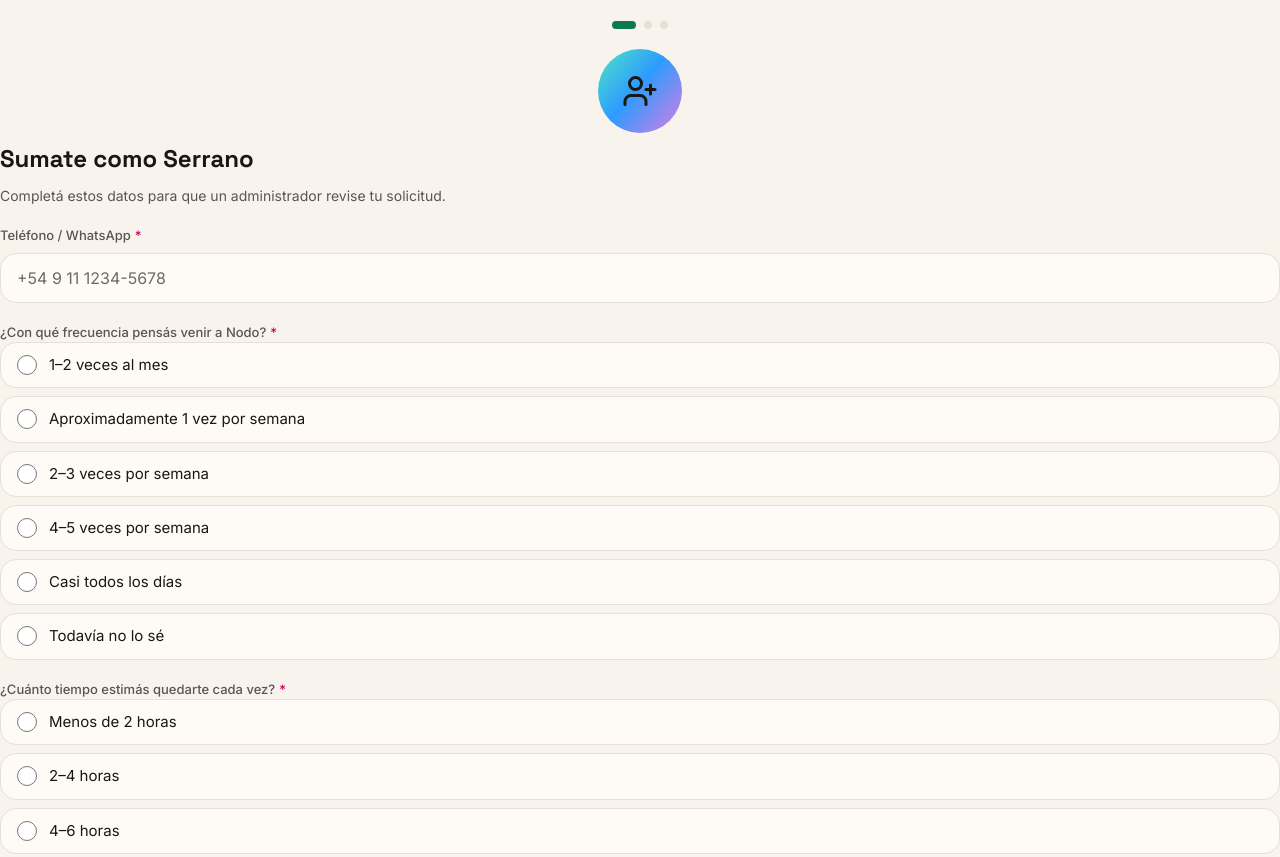
Test: SolicitarForm — multi-step (ZER-109) › uses exclusive radio choices instead of select elements
The width and height of the screenshot is (1280, 857).
Expected: the radio button labelled "1–2 veces al mes" is shown, x1=17 y1=355 x2=37 y2=375
Type "1122334455" into the field labelled "Teléfono / WhatsApp" at x=640, y=278, box x1=0 y1=252 x2=1279 y2=302
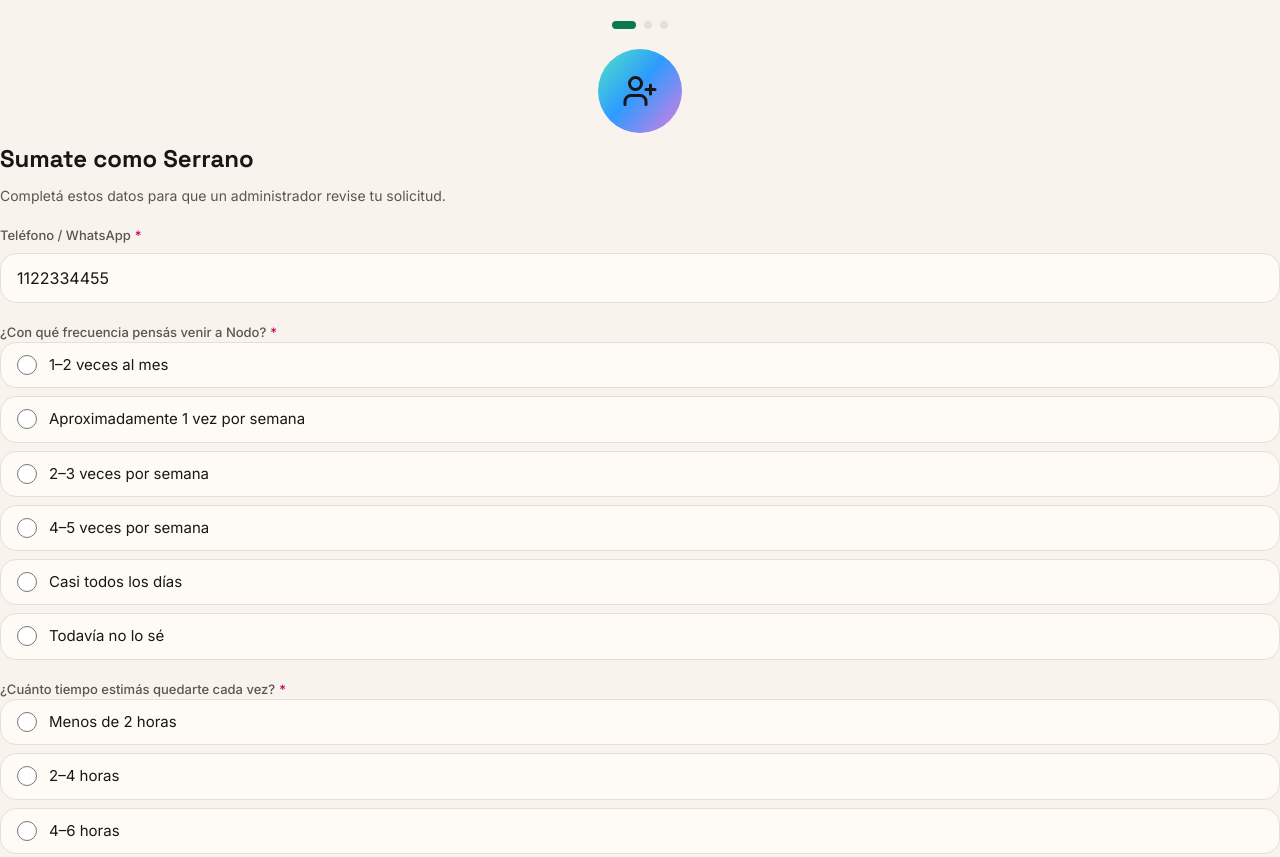
Click the radio button labelled "Aproximadamente 1 vez por semana" at x=27, y=419, box x1=17 y1=409 x2=37 y2=429
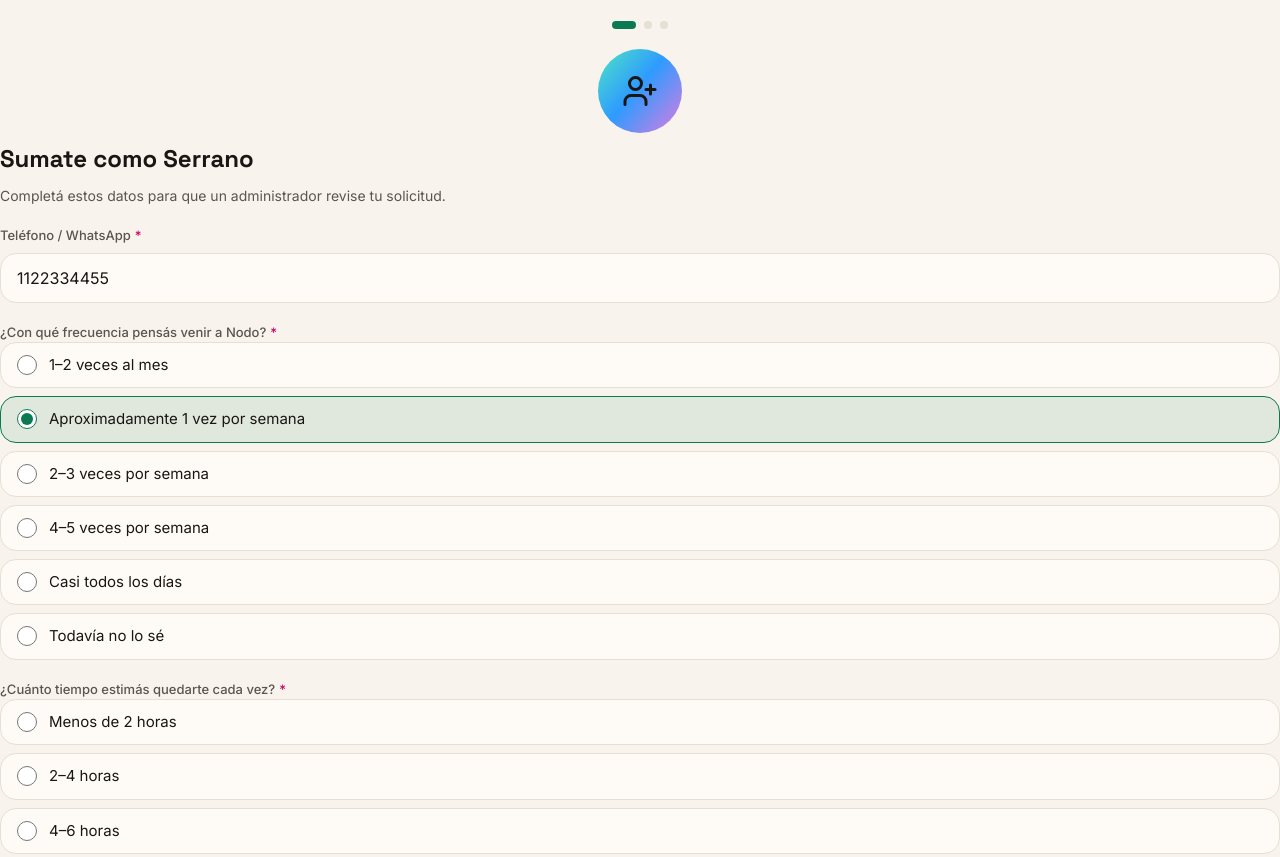
Click the radio button labelled "2–4 horas" at x=27, y=776, box x1=17 y1=766 x2=37 y2=786
(page scrolled)
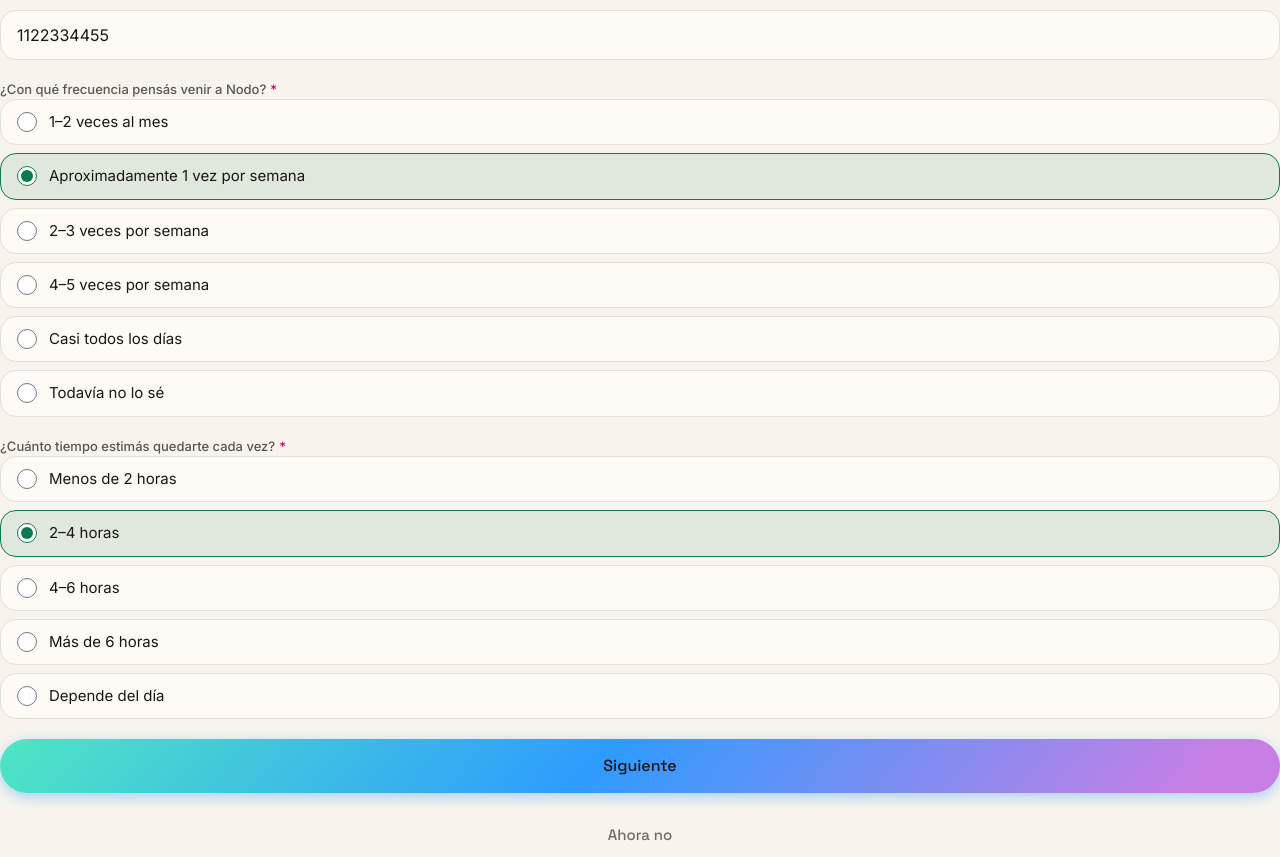
Click the button "Siguiente" at x=640, y=766, box x1=0 y1=739 x2=1279 y2=793
(page scrolled)
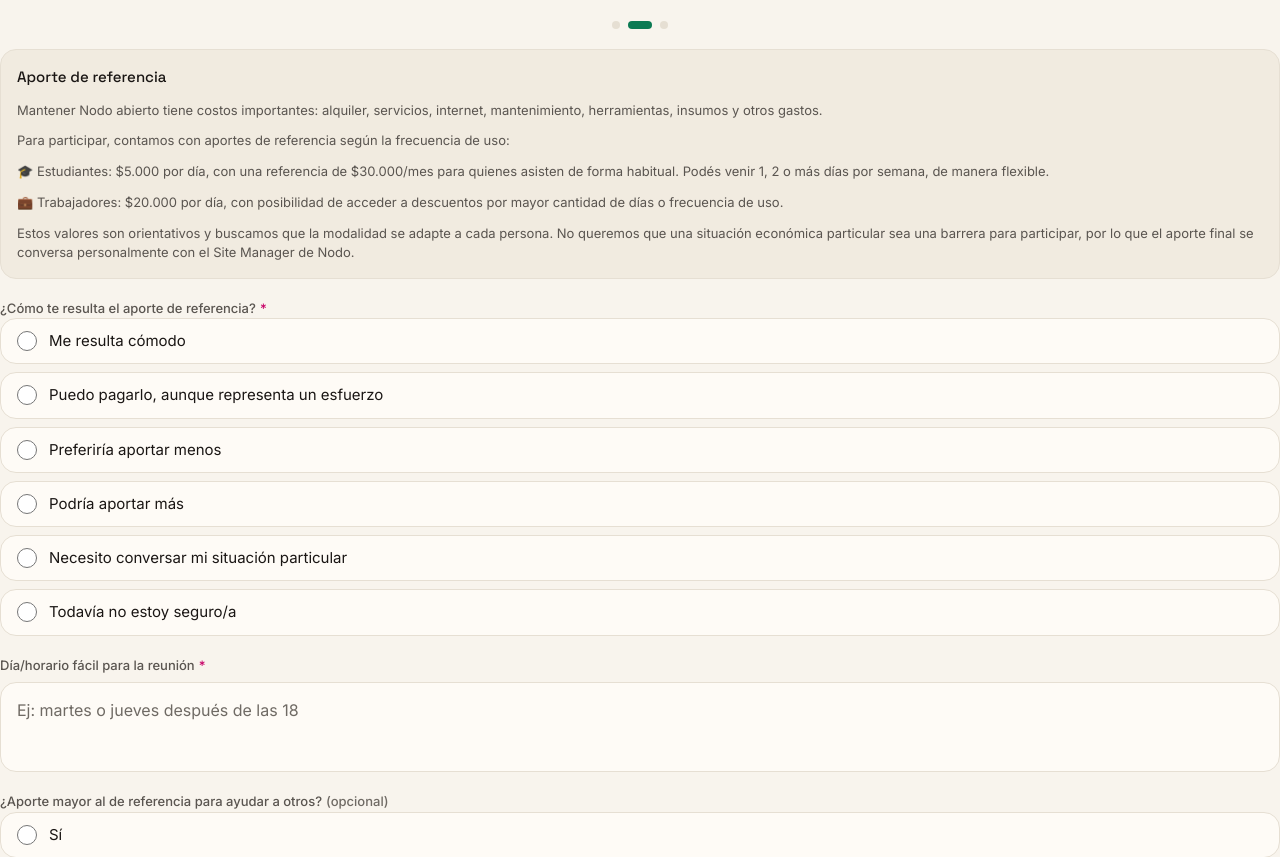
Now the radio button labelled "Me resulta cómodo" is shown, box x1=17 y1=331 x2=37 y2=351
